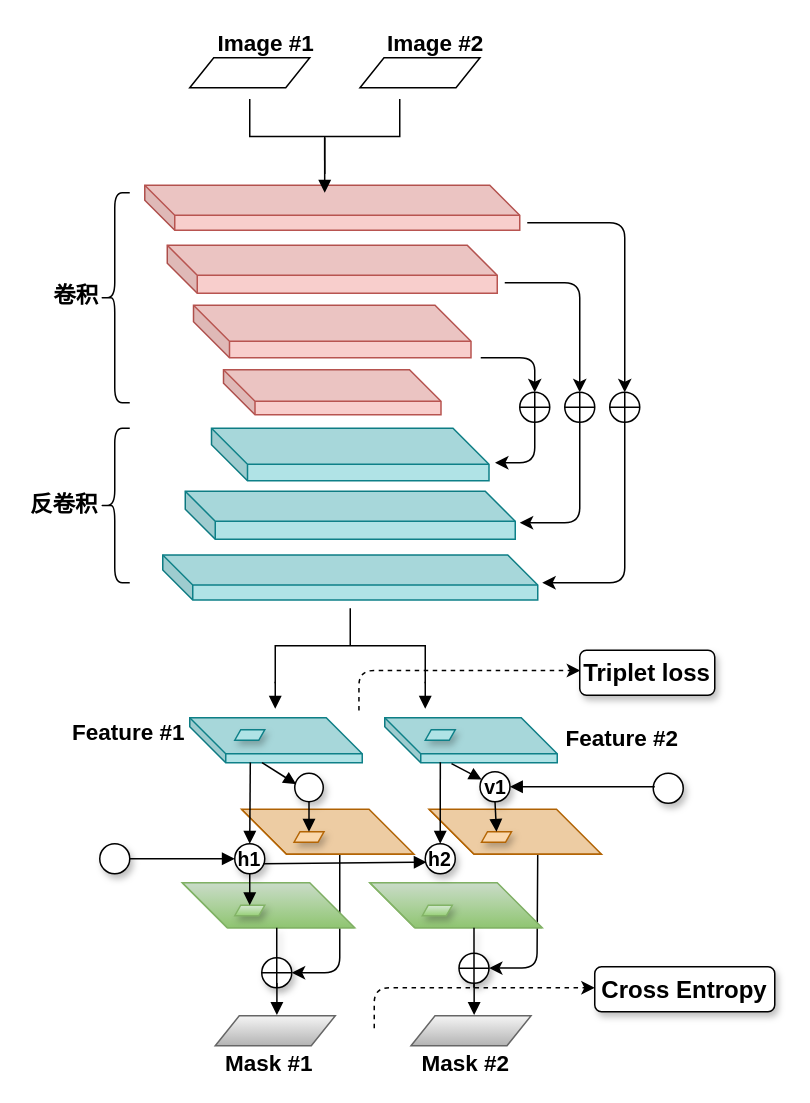
This 810x1103 diagram has some shape labels left out. The shapes that lost their labels are listed below. From the top down, each one's centre as x and y in pixels, then its label:
At (x=309, y=789): "v2".
At (x=669, y=790): "v0".
At (x=115, y=860): "h 0".
